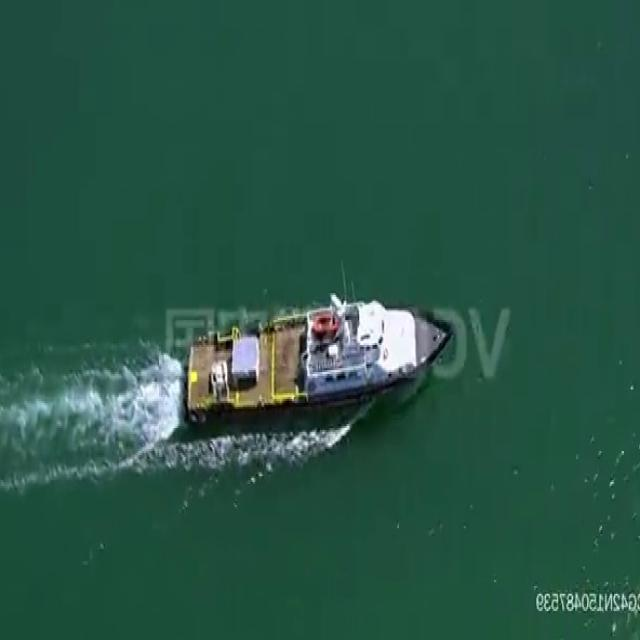houseboat: (186, 294, 451, 417)
